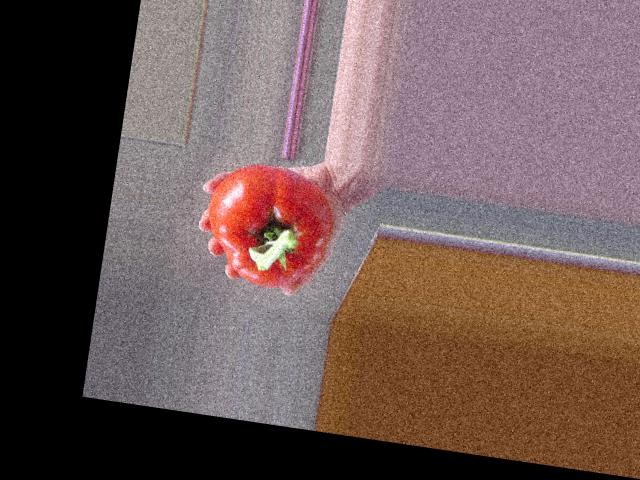tomato: (198, 157, 339, 295)
